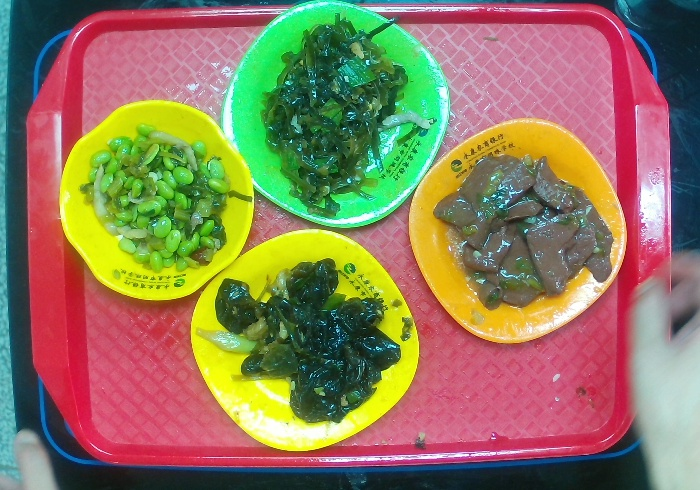YKMZ-Huang_Se_Ao_Bian_Wan: (57, 96, 257, 306)
YKMZ-Huang_Se_Fang_Die: (184, 225, 422, 456)
YKMZ-Ju_Se_Fang_Die: (404, 112, 632, 349)
YKMZ-Lv_Se_Fang_Die: (217, 1, 454, 231)
